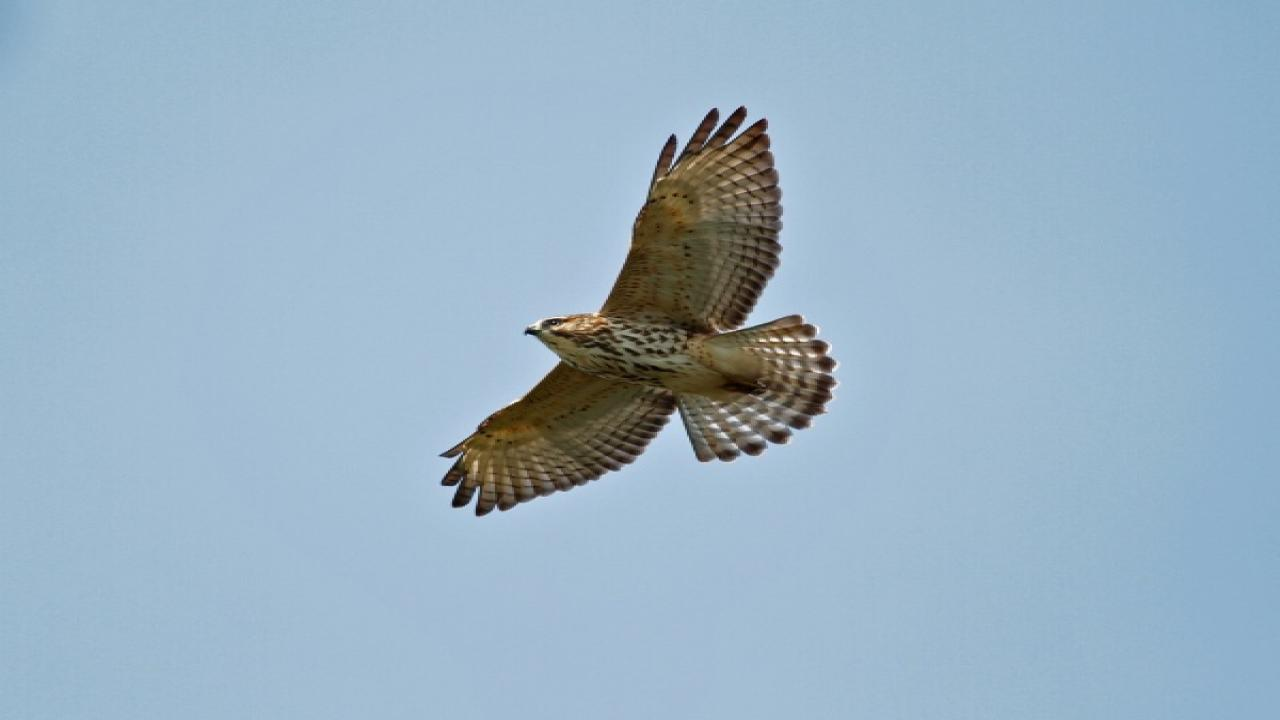Bird: (422, 103, 848, 525)
